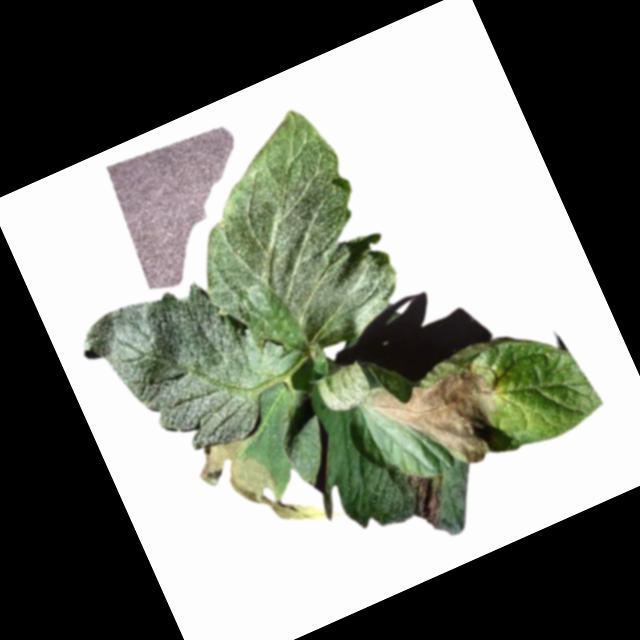Late_blight: (360, 344, 517, 495), (187, 414, 329, 562), (400, 460, 462, 530)
